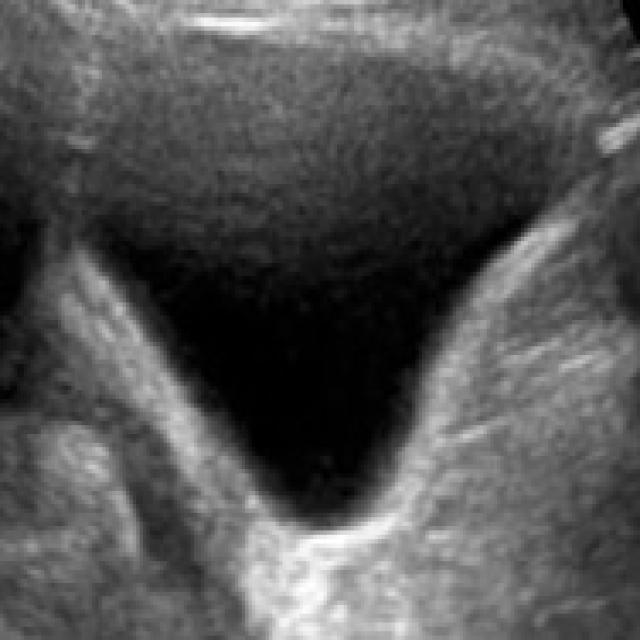bladder: (54, 12, 631, 576)
